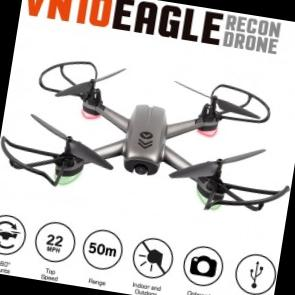drone: (0, 40, 295, 230)
